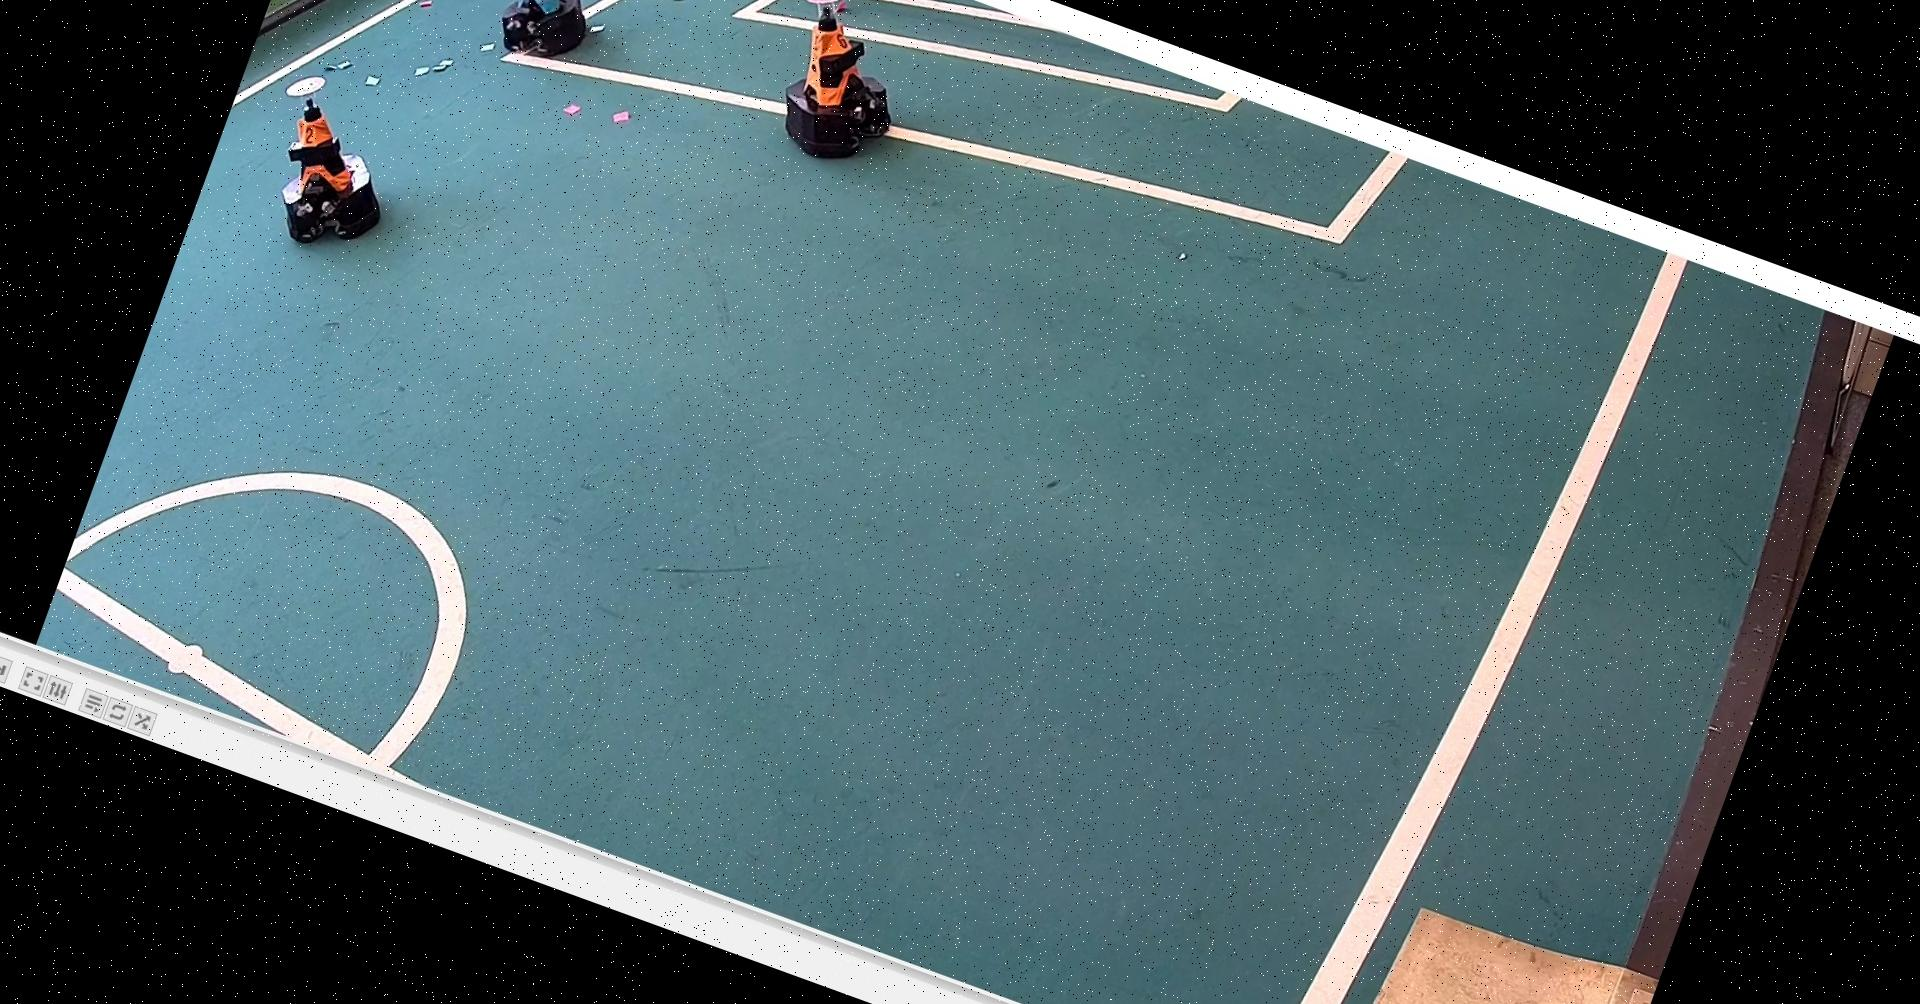Team_Blue: (474, 0, 629, 72)
Team_Red: (237, 63, 422, 270), (752, 0, 930, 176)
